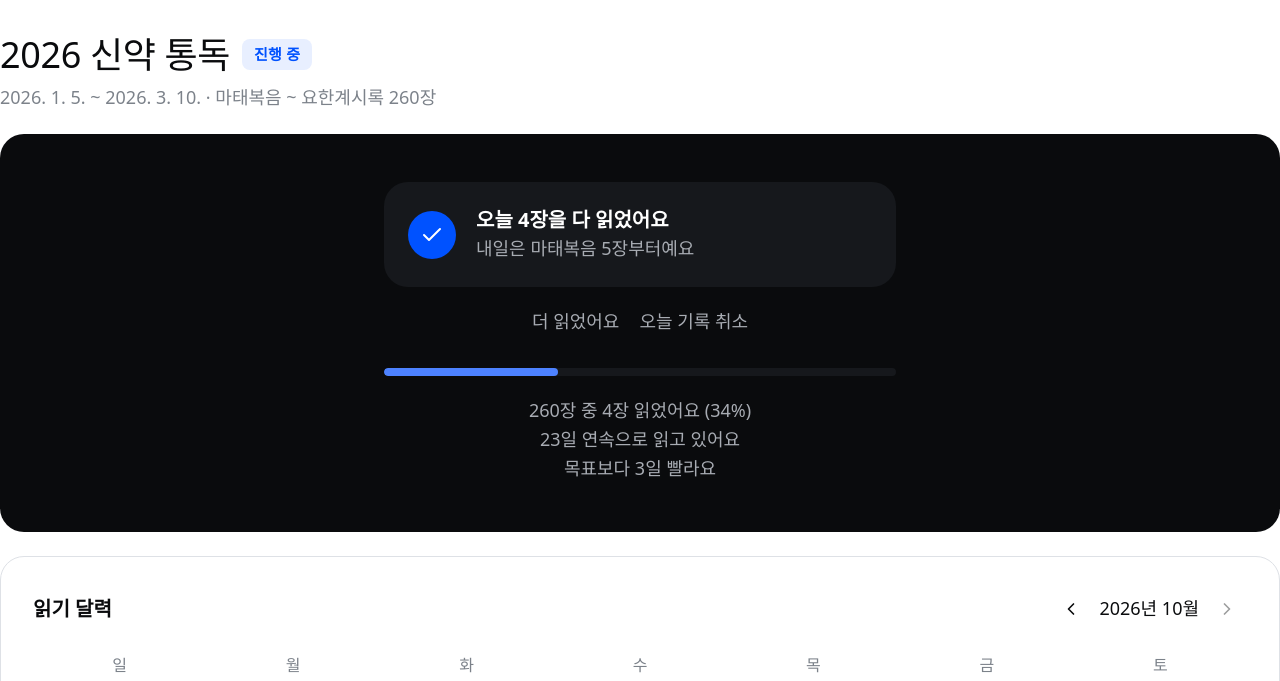
Test: ChallengeDetail › 오늘 이미 기록 있음: 더 읽었어요 클릭 → '더 읽은 장 수' 라벨로 다이얼로그 오픈
Click the button "더 읽었어요" at (576, 321), box left=532, top=307, right=619, bottom=336
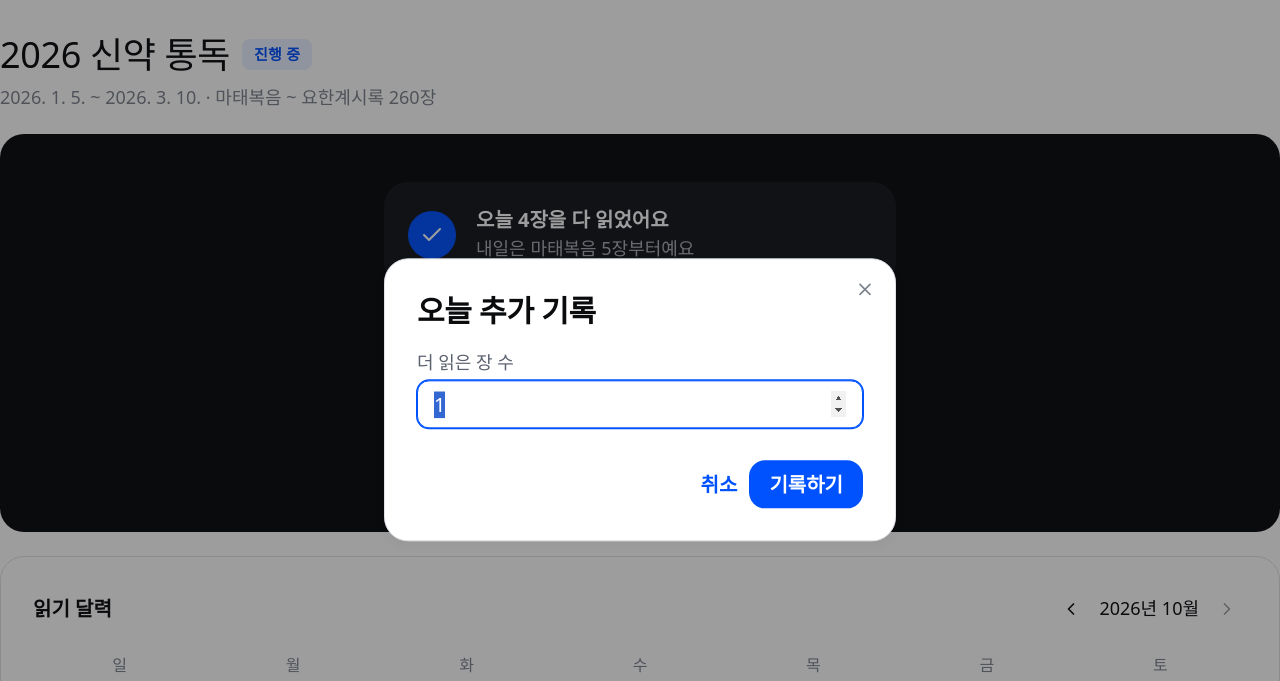
Result: the number field labelled "더 읽은 장 수" is shown at left=417, top=381, right=863, bottom=429
